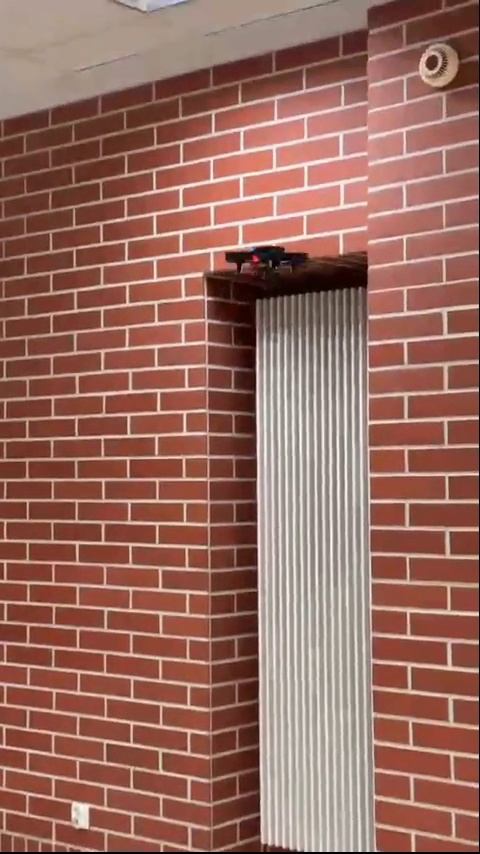drone: (230, 245, 314, 292)
